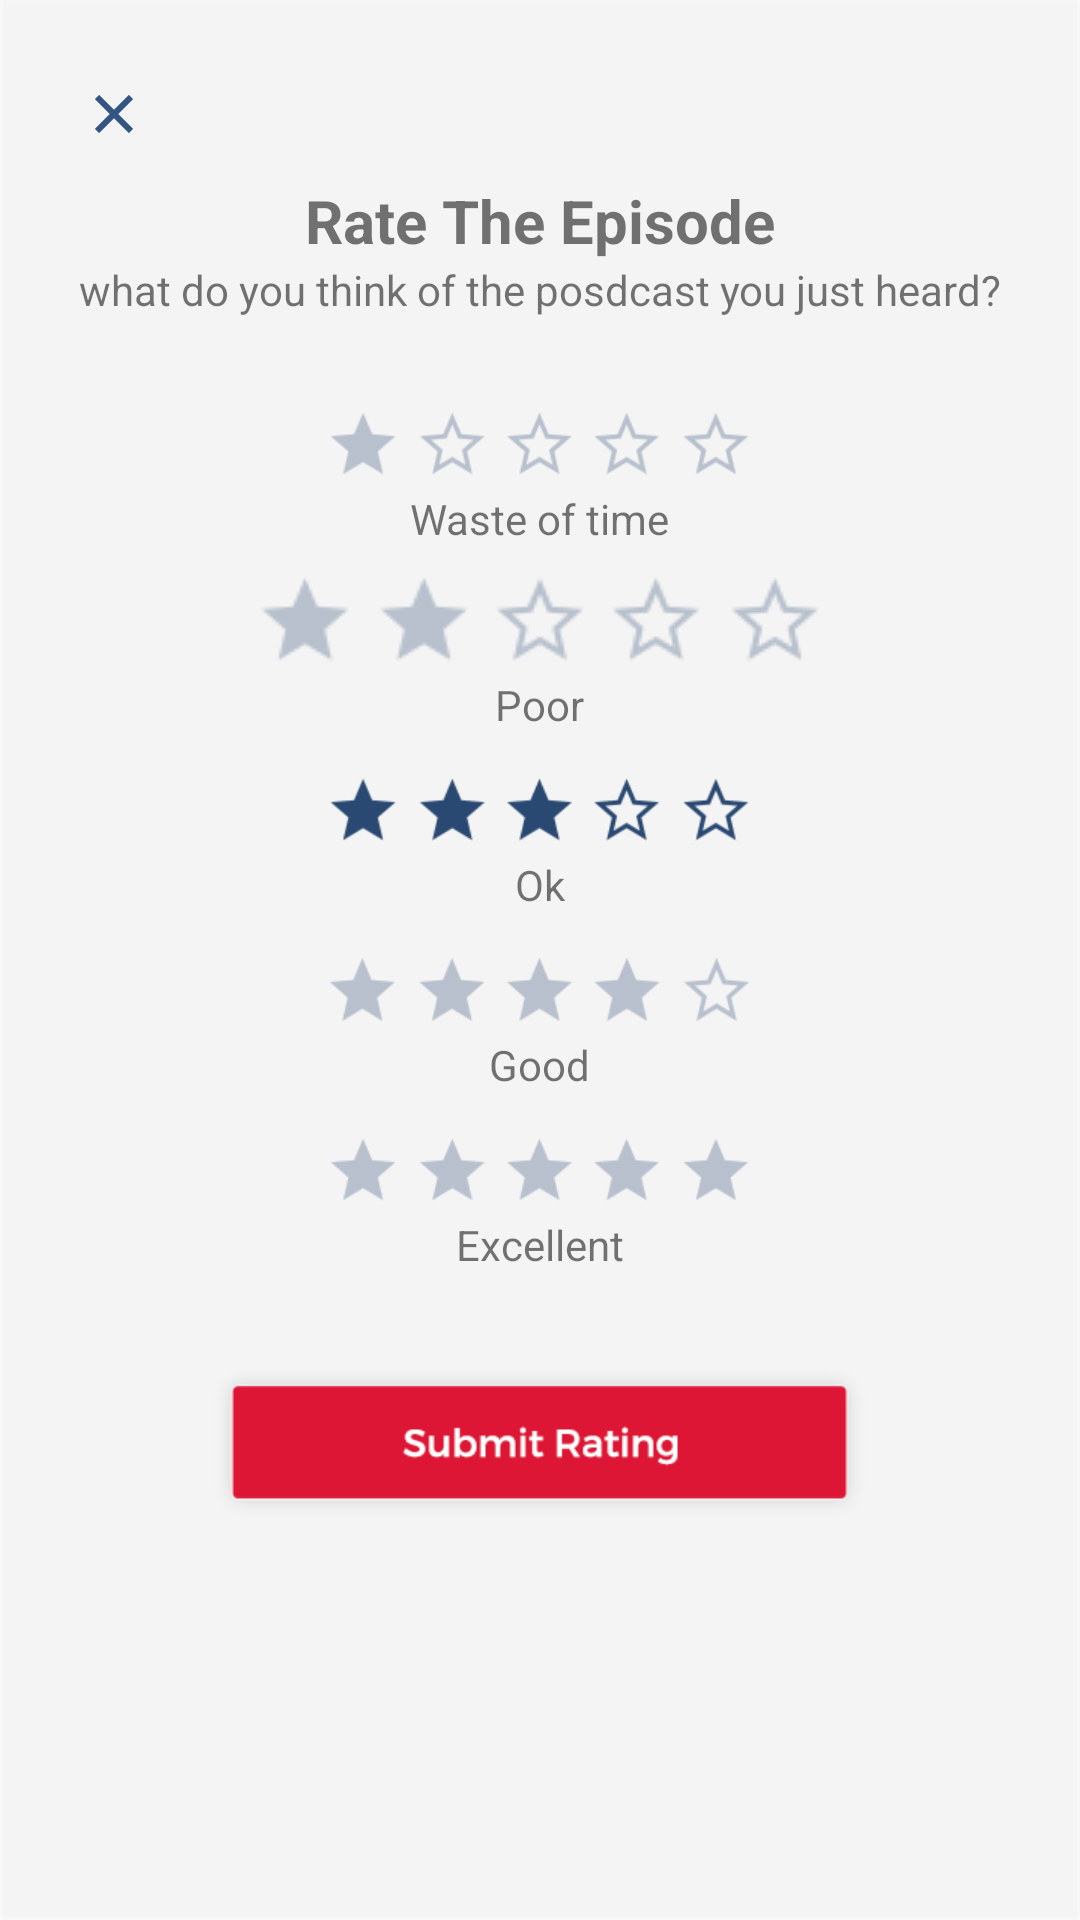

Point at icon controls on the screen. Image size 1080*1920, points as (x=x, y=y).
clsoe: (x=114, y=114)
